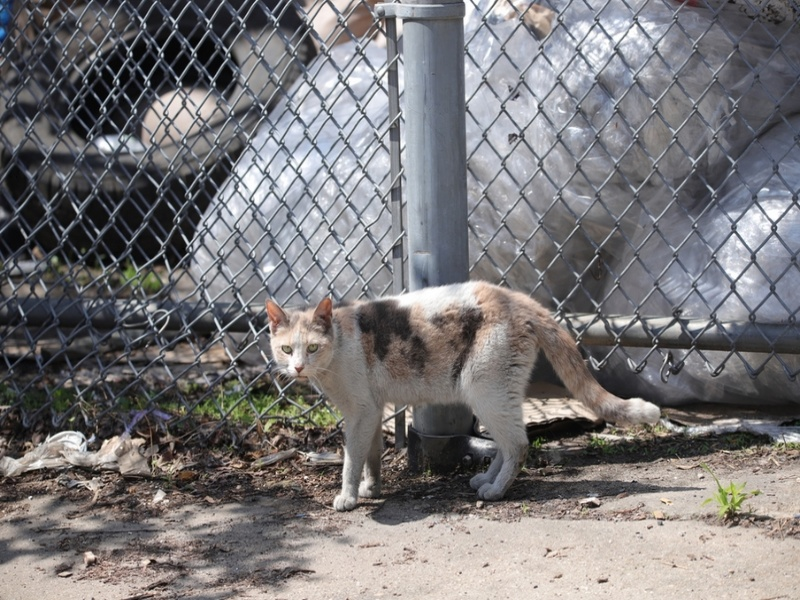cat: (271, 275, 666, 514)
